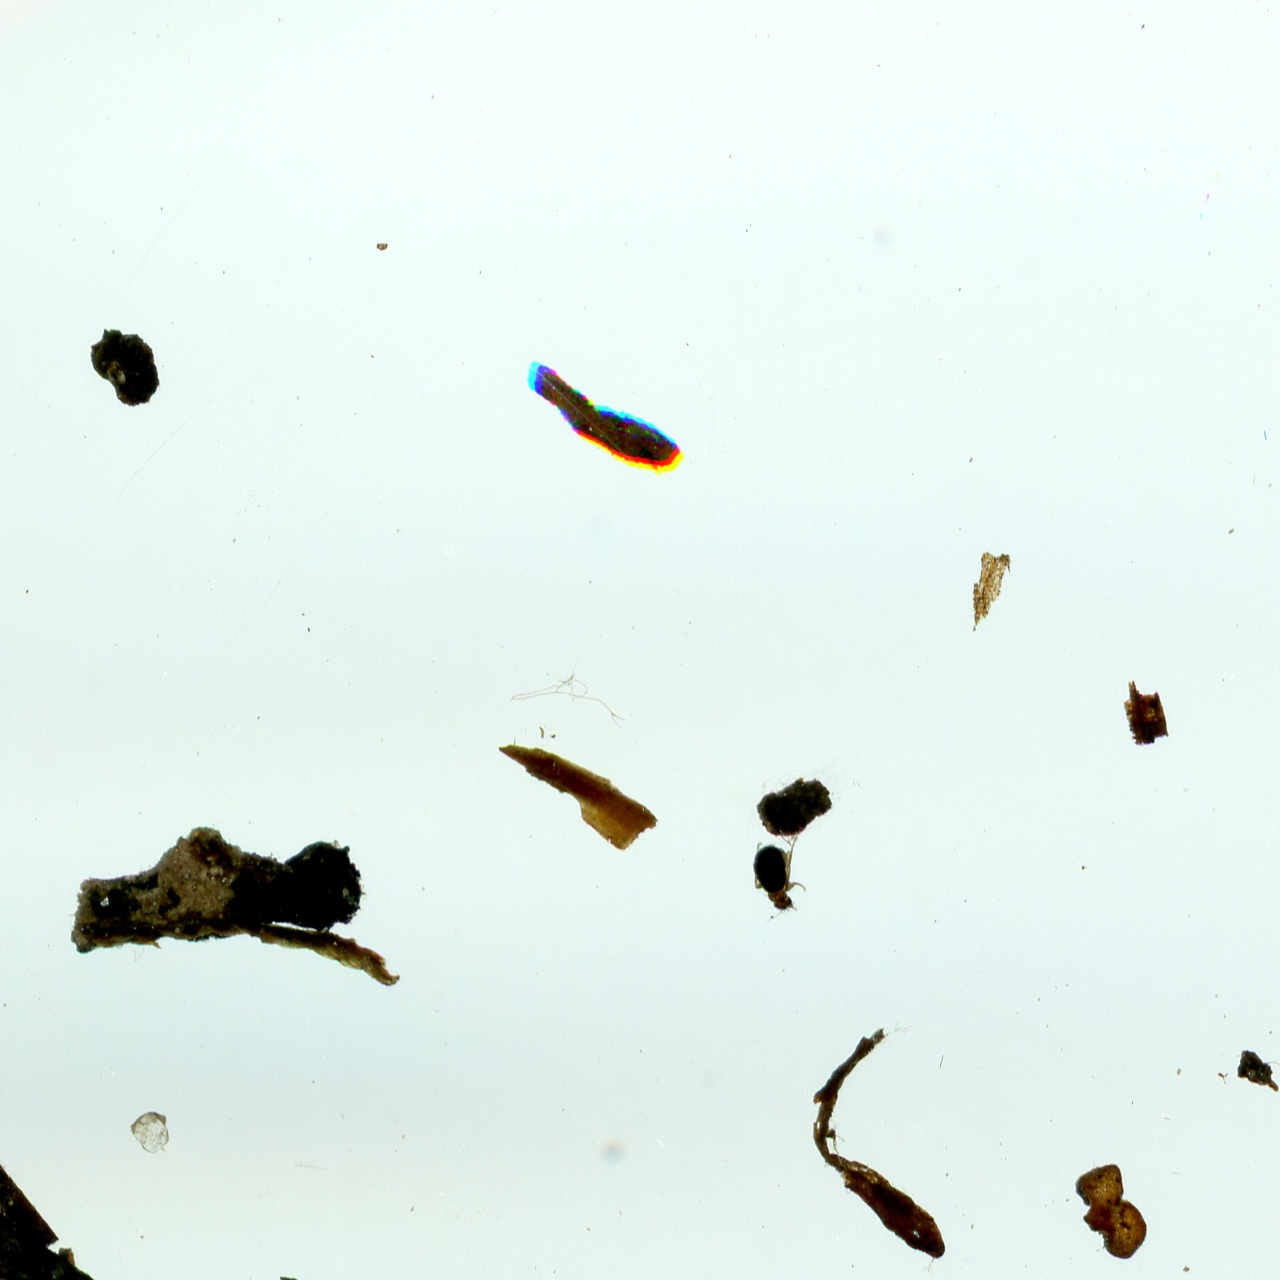arthropod: (749, 831, 811, 930)
